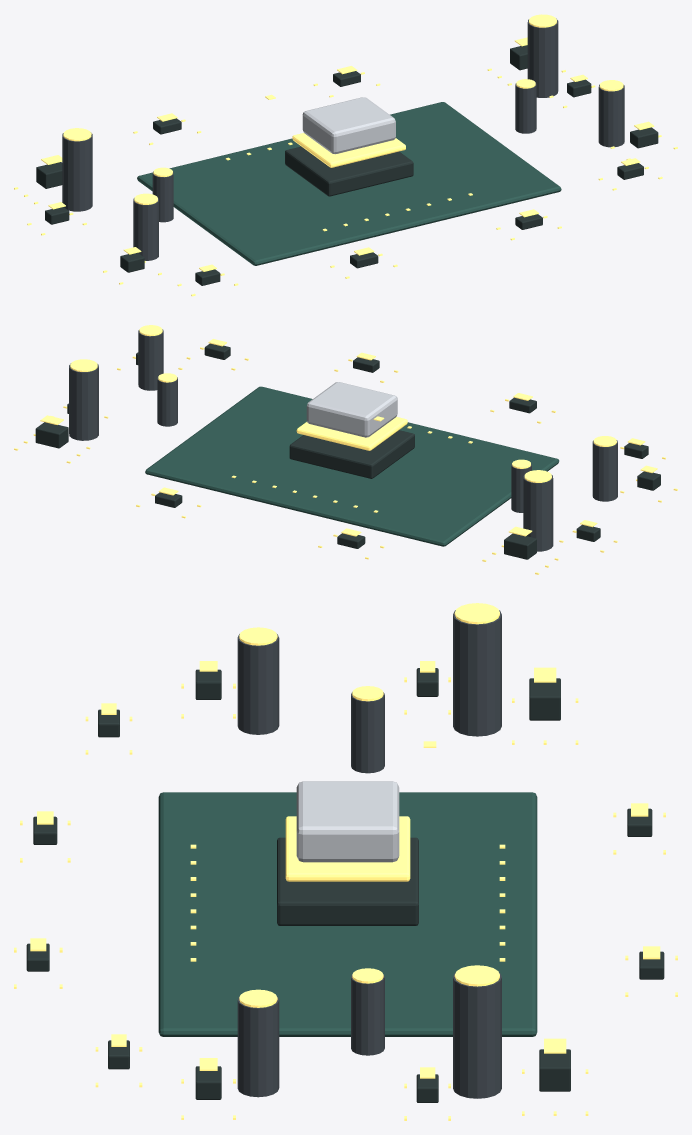
File: circuit-board.glb
3 views of the same model, one above another, from view 1: azimuth 30°, elevation 25°; view 2: azimuth 150°, elevation 25°; view 3: azimuth 270°, elevation 25° (orthographic). The views are drawn at different scales.
Parts seen in each view (by area): view 1: Board, CPU_IHS, CPU_socket, Cap_0, Cap_2, Cap_3, CPU_trim, Cap_1, Cap_5, Cap_4, IC_0, IC_6; view 2: Board, CPU_IHS, CPU_socket, Cap_2, Cap_0, CPU_trim, Cap_1, Cap_3, Cap_5, IC_4, IC_0, Cap_4 (+1 smaller); view 3: Board, CPU_IHS, CPU_socket, Cap_0, Cap_2, Cap_1, Cap_3, CPU_trim, Cap_5, Cap_4, IC_0, IC_4 (+4 smaller).
Part boxes in pixels (bbox=[...]): Board: bbox=[137, 102, 561, 265]; CPU_IHS: bbox=[302, 97, 395, 154]; CPU_socket: bbox=[285, 146, 413, 196]; Cap_0: bbox=[62, 133, 92, 211]; Cap_2: bbox=[527, 18, 558, 97]; Cap_3: bbox=[598, 84, 624, 147]; CPU_trim: bbox=[292, 133, 405, 167]; Cap_1: bbox=[133, 198, 158, 260]; Cap_5: bbox=[515, 83, 536, 133]; Cap_4: bbox=[152, 171, 173, 222]; IC_0: bbox=[36, 162, 62, 188]; IC_6: bbox=[630, 127, 658, 148]; Board: bbox=[145, 386, 559, 546]; CPU_IHS: bbox=[306, 382, 397, 437]; CPU_socket: bbox=[289, 430, 414, 478]; Cap_2: bbox=[69, 363, 98, 440]; Cap_0: bbox=[523, 475, 553, 551]; CPU_trim: bbox=[296, 416, 407, 450]; Cap_1: bbox=[592, 440, 617, 501]; Cap_3: bbox=[138, 329, 163, 390]; Cap_5: bbox=[157, 377, 177, 426]; IC_4: bbox=[35, 422, 68, 448]; IC_0: bbox=[504, 533, 536, 559]; Cap_4: bbox=[511, 463, 531, 512]; Board: bbox=[158, 792, 537, 1036]; CPU_IHS: bbox=[296, 781, 399, 862]; CPU_socket: bbox=[277, 837, 418, 925]; Cap_0: bbox=[453, 610, 501, 736]; Cap_2: bbox=[453, 972, 501, 1098]; Cap_1: bbox=[237, 634, 279, 734]; Cap_3: bbox=[237, 996, 279, 1097]; CPU_trim: bbox=[285, 816, 410, 881]; Cap_5: bbox=[351, 974, 384, 1055]; Cap_4: bbox=[351, 692, 384, 773]; IC_0: bbox=[529, 678, 560, 720]; IC_4: bbox=[539, 1049, 570, 1091].
Bounding box in the file's own units: 6.62 × 0.935 × 4.21.
